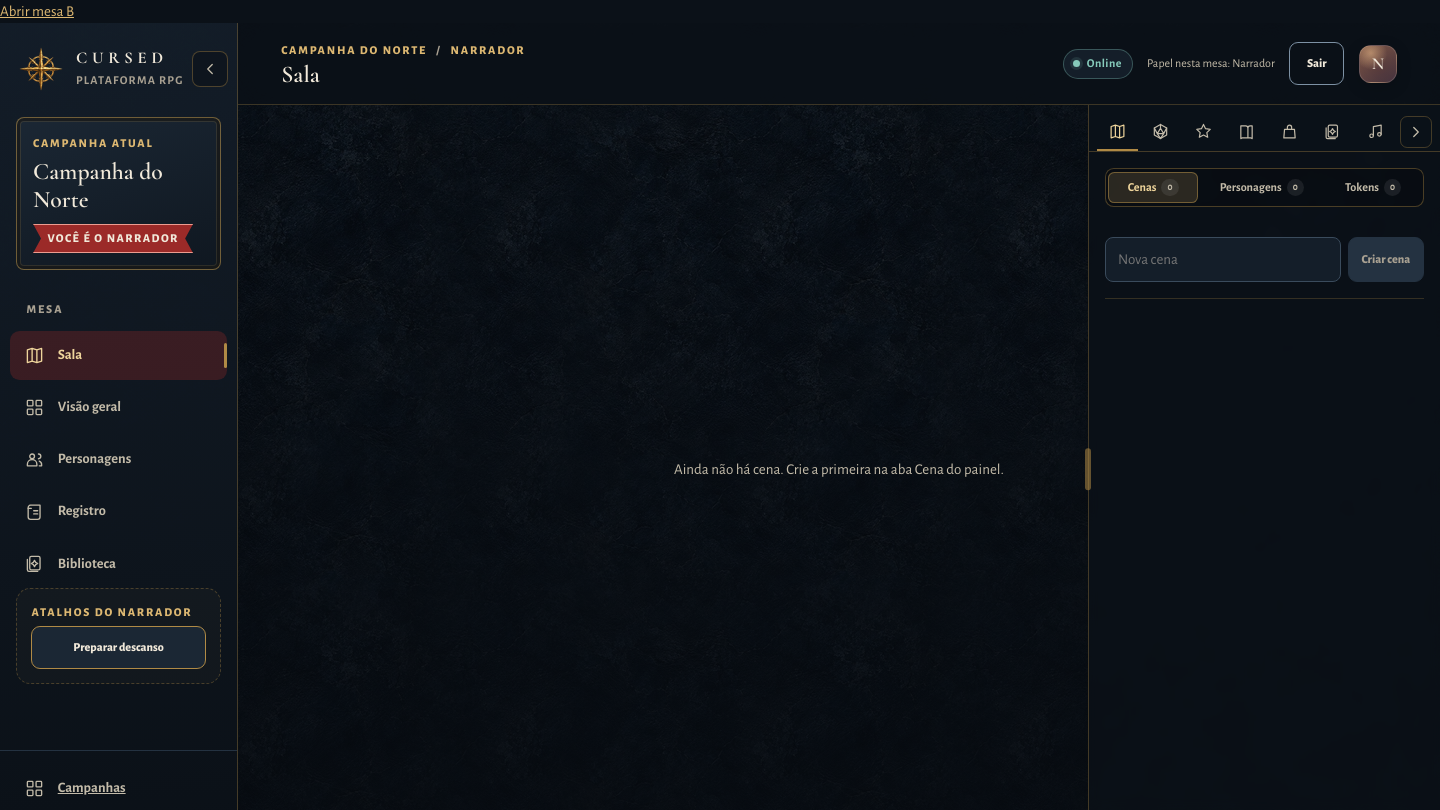
Test: shell autenticado da mesa › usa o papel de cada mesa no desktop e na navegação móvel
expect the text "Ainda não há cena. Crie a primeira na aba Cena do painel." is shown: met, box [674,462,1004,477]
expect the button "Sala" is shown: met, box [10,331,227,380]
What coordinates should you click on to do the following:
click the link "Abrir mesa B"
I would click on:
 (37, 12)
Its box is [0,4,74,19].
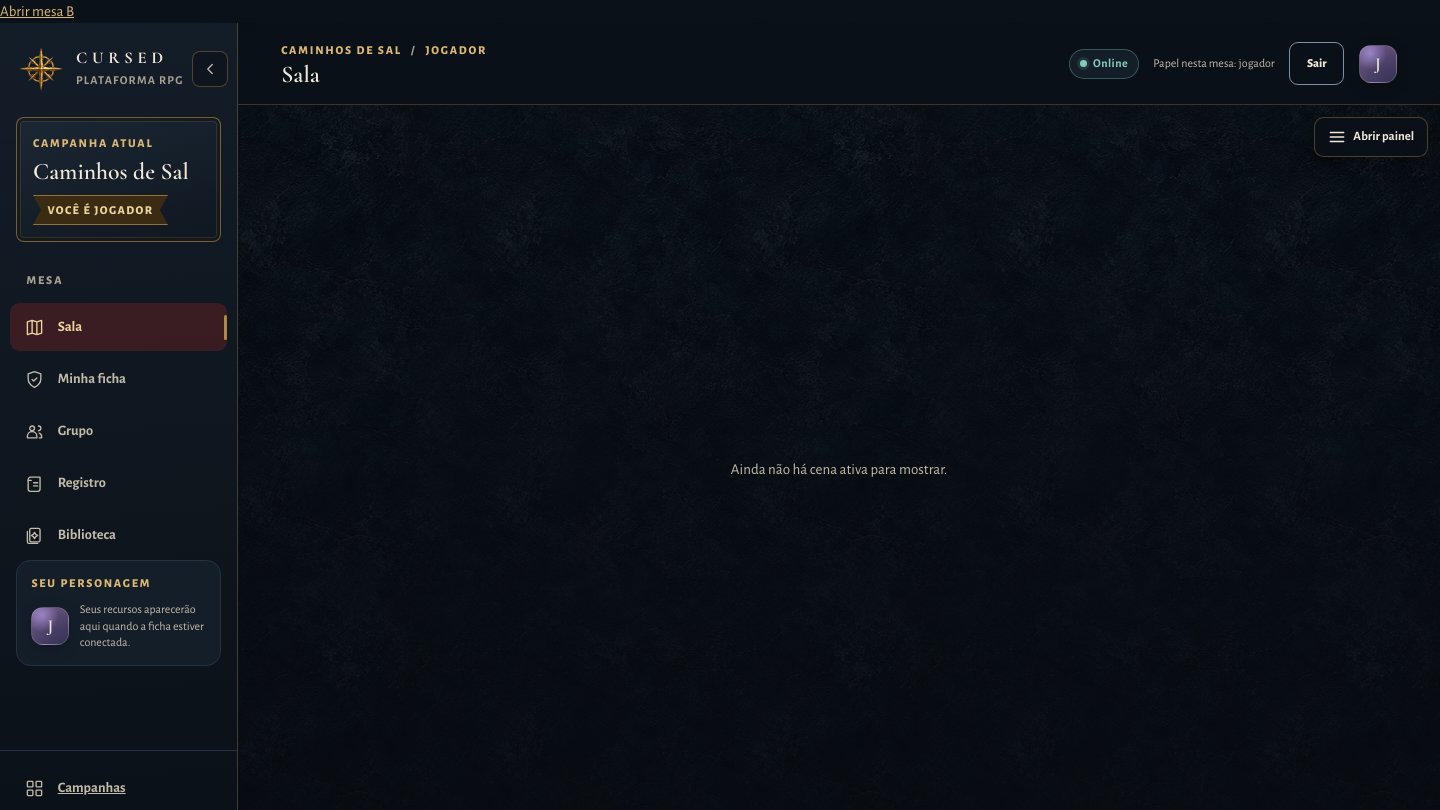
expect the text "Ainda não há cena ativa para mostrar." is shown: met, box [731,462,947,477]
expect the text "Caminhos de Sal" is shown: met, box [33,158,204,186]
expect the button "Minha ficha" is shown: met, box [10,355,227,403]
